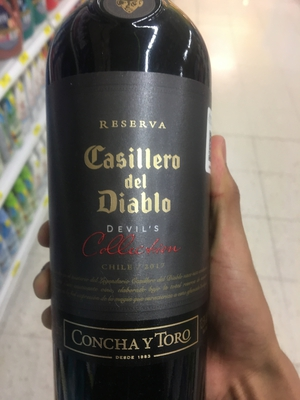casillero del diablo devils collection rojo: (47, 14, 216, 400)
